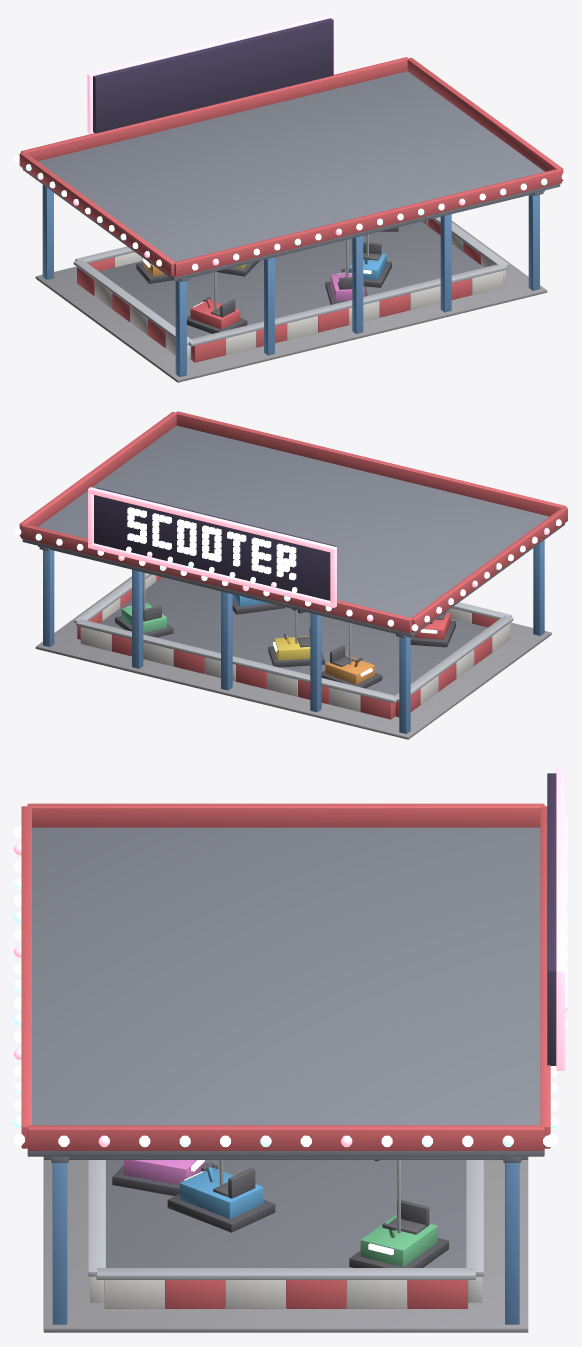
Rendered from th13_autoscooter.glb.
3 renders of one model, top to bottom at view 1: azimuth 30°, elevation 25°; view 2: azimuth 150°, elevation 25°; view 3: azimuth 270°, elevation 25°, orthographic. The views are drawn at different scales.
Parts seen in each view (by area): view 1: Cube.052, Cube.127, Cube.001, Cube, Cube.053, Cube.054, Cube.056, Cube.055, Cube.012, Cube.030, Cube.044, Cube.042 (+15 smaller); view 2: Cube.052, Cube.001, Cube, Cube.127, Cube.053, Cube.054, Cube.056, Cube.055, Cube.023, Cube.129, Cube.128, Cube.030 (+22 smaller); view 3: Cube.052, Cube.001, Cube, Cube.055, Cube.056, Cube.037, Cube.053, Cube.127, Cube.054, Cube.046, Cube.047, Cube.100 (+16 smaller).
Boxes of the visible parts, x1,y1,x2,y2 form: Cube.052: (22, 71, 560, 280); Cube.127: (93, 18, 333, 133); Cube.001: (99, 221, 483, 359); Cube: (35, 221, 547, 382); Cube.053: (174, 169, 561, 277); Cube.054: (21, 57, 408, 161); Cube.056: (407, 57, 563, 181); Cube.055: (19, 152, 175, 276); Cube.012: (189, 264, 507, 346); Cube.030: (73, 259, 192, 345); Cube.044: (440, 214, 451, 312); Cube.042: (352, 236, 363, 333); Cube.052: (22, 425, 564, 636); Cube.001: (99, 577, 487, 715); Cube: (35, 576, 551, 739); Cube.127: (94, 487, 336, 600); Cube.053: (175, 411, 566, 516); Cube.054: (21, 524, 412, 633); Cube.056: (19, 412, 176, 536); Cube.055: (411, 507, 567, 632); Cube.023: (76, 619, 398, 703); Cube.129: (88, 487, 336, 552); Cube.128: (88, 543, 333, 607); Cube.030: (393, 615, 513, 701); Cube.052: (27, 827, 544, 1156); Cube.001: (106, 1160, 466, 1267); Cube: (43, 1159, 528, 1332); Cube.055: (27, 803, 544, 827); Cube.056: (27, 1125, 544, 1150); Cube.037: (96, 1268, 475, 1279); Cube.053: (21, 806, 31, 1148); Cube.127: (547, 773, 556, 1065); Cube.054: (540, 806, 550, 1148); Cube.046: (52, 1163, 67, 1324); Cube.047: (505, 1163, 519, 1324); Cube.100: (179, 1167, 263, 1218).
Bounding box in the file's own units: 19.48 × 8.47 × 13.72.
